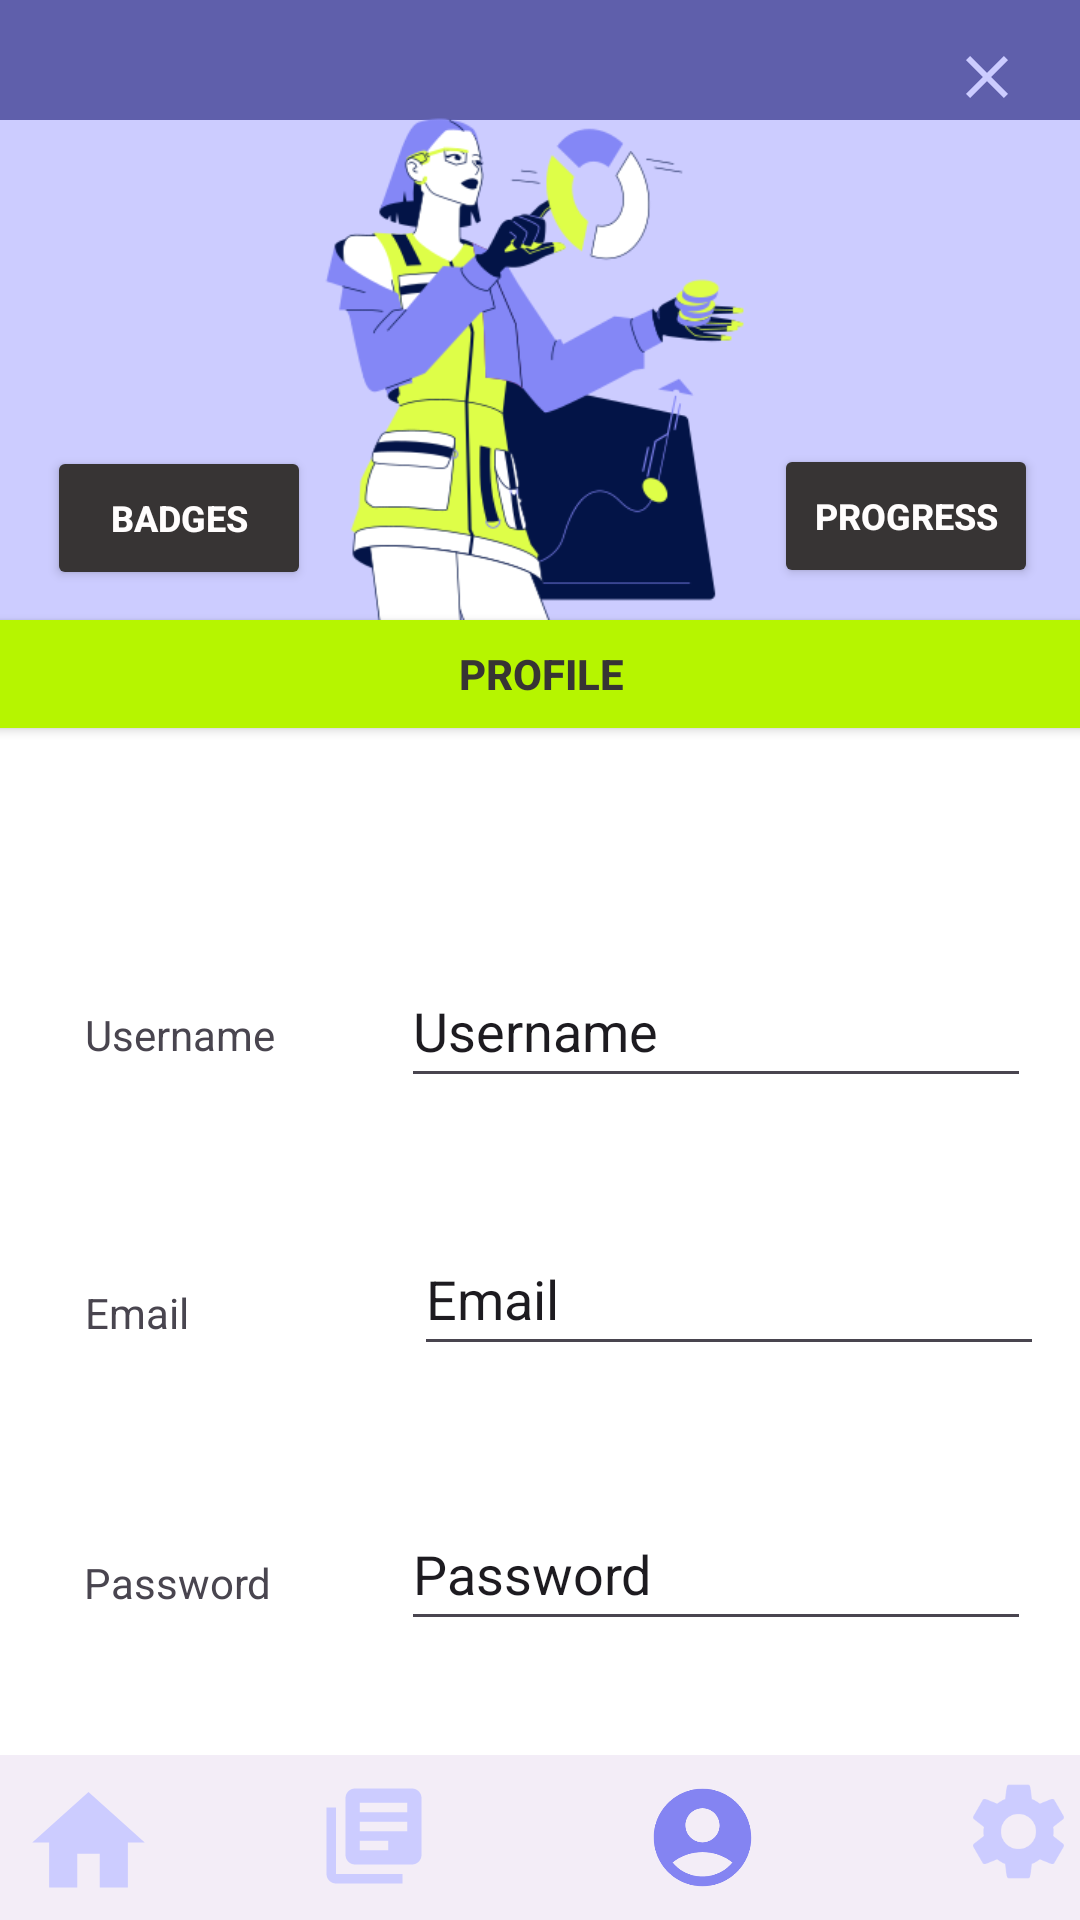

Named icons in this screenshot (1080 × 1920) and their centers, point (x, y):
accoount circle: point (702, 1837)
close: point (987, 77)
homee: point (88, 1839)
library books: point (374, 1836)
settings: point (1018, 1831)
